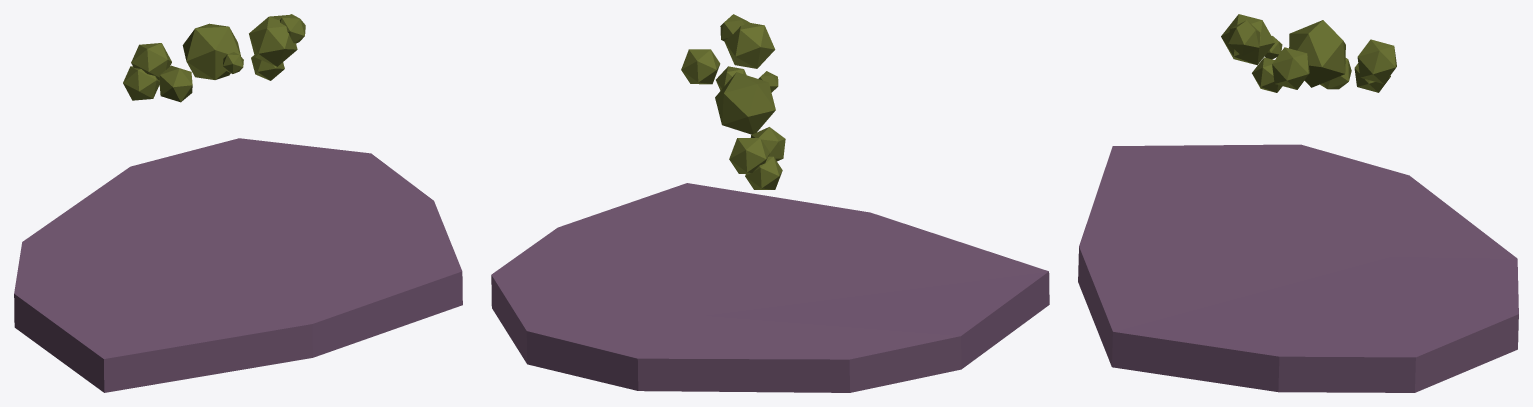
File: land1.gltf
3 views of the same model, side by side, from view 1: azimuth 30°, elevation 25°; view 2: azimuth 150°, elevation 25°; view 3: azimuth 270°, elevation 25° (orthographic). The views are drawn at different scales.
Visible parts, largest first — view 1: obj1, leaves1; view 2: obj1, leaves1; view 3: obj1, leaves1.
Part boxes in pixels (x1,y1,x2,y2): obj1: [14, 138, 462, 392]; leaves1: [123, 14, 305, 102]; obj1: [491, 183, 1049, 392]; leaves1: [681, 14, 785, 189]; obj1: [1078, 144, 1518, 392]; leaves1: [1221, 14, 1396, 92].
Size of the model in its own units: 6.35 by 3.98 by 5.55.
